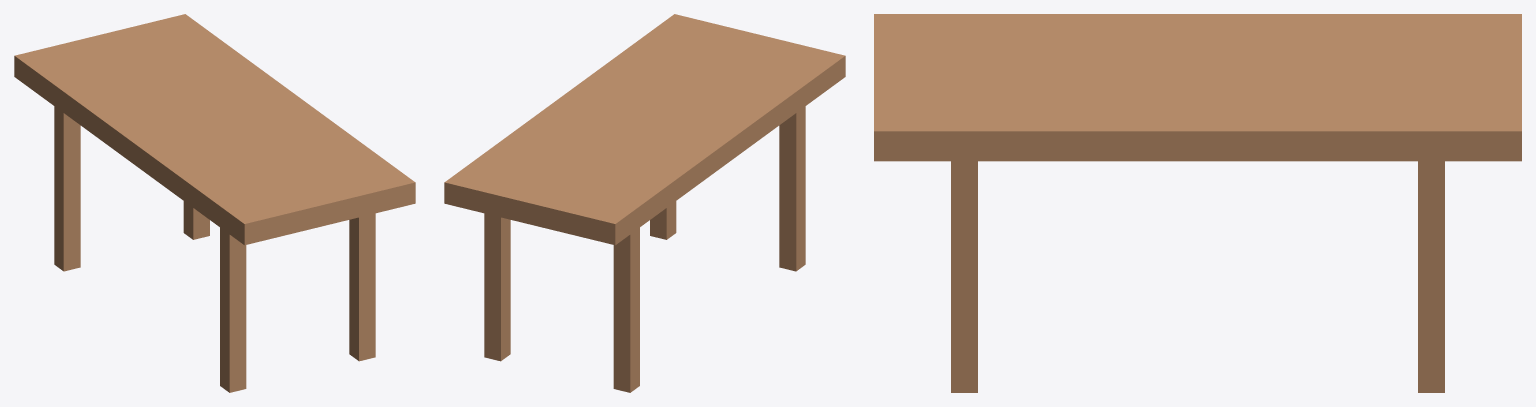
File: PR_Table.fbx
3 views of the same model, side by side, from view 1: azimuth 30°, elevation 25°; view 2: azimuth 150°, elevation 25°; view 3: azimuth 270°, elevation 25° (orthographic). The views are drawn at different scales.
Parts seen in each view (by area): view 1: PR_tabletop, PR_tableLegs; view 2: PR_tabletop, PR_tableLegs; view 3: PR_tabletop, PR_tableLegs.
Part boxes in pixels (bbox=[...]): PR_tabletop: bbox=[14, 14, 415, 245]; PR_tableLegs: bbox=[54, 106, 375, 392]; PR_tabletop: bbox=[444, 14, 845, 245]; PR_tableLegs: bbox=[484, 106, 805, 392]; PR_tabletop: bbox=[874, 14, 1521, 161]; PR_tableLegs: bbox=[951, 161, 1444, 392].
Size of the model in its own units: 67.7 by 72.59 by 158.
